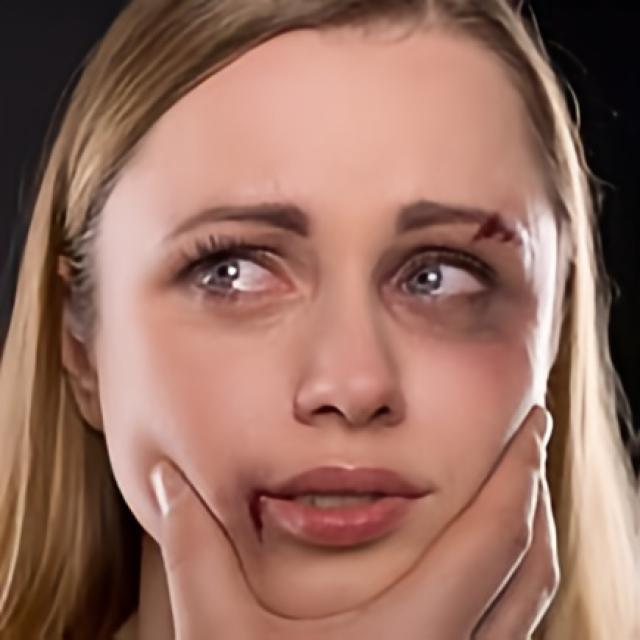fear: (89, 11, 556, 621)
